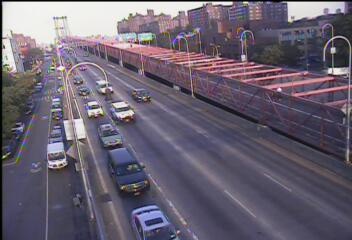neg: (68, 193, 81, 210)
